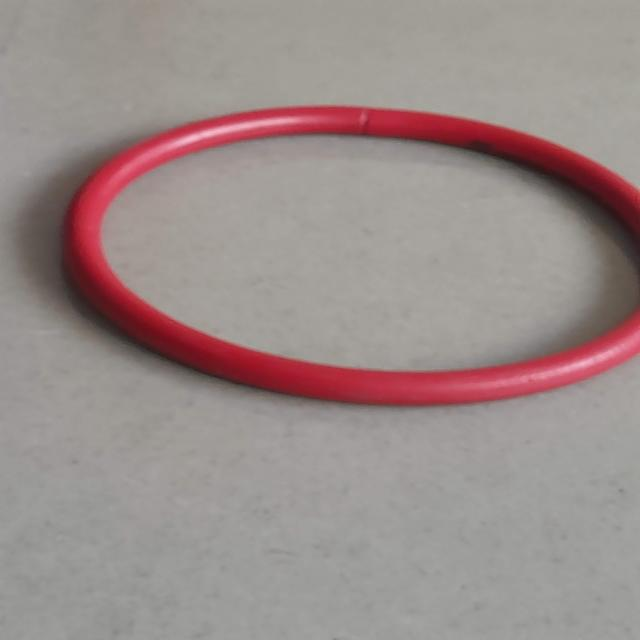daire: (66, 100, 640, 409)
